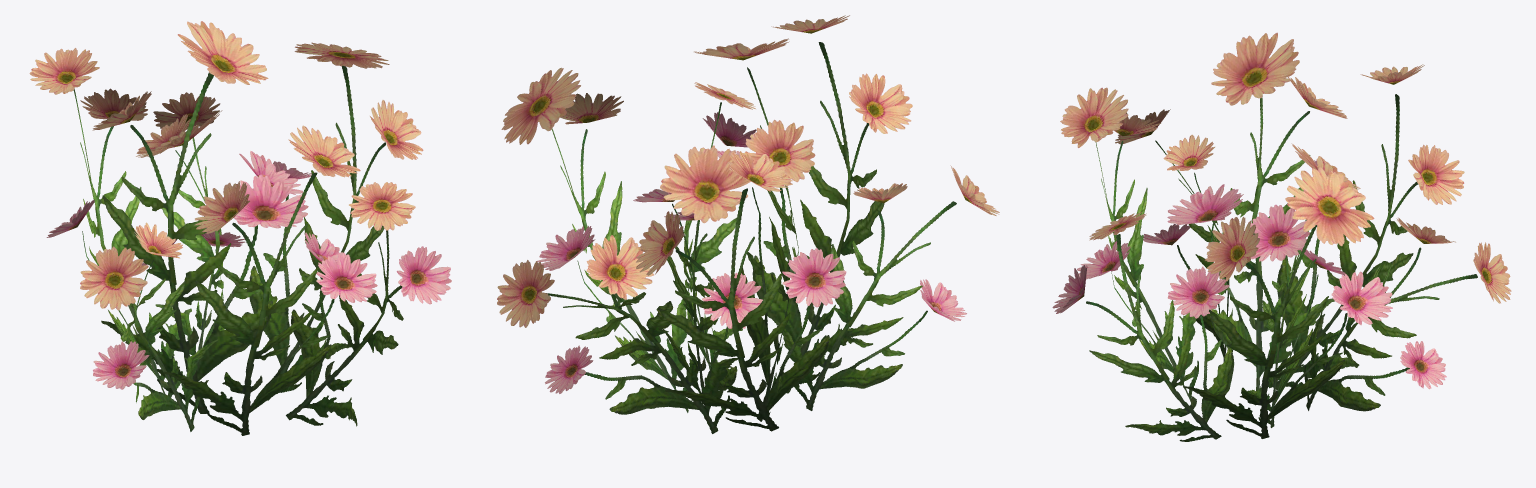
File: map_xuanren_shu_4.fbx
3 renders of one model, left to right at view 1: azimuth 30°, elevation 25°; view 2: azimuth 150°, elevation 25°; view 3: azimuth 270°, elevation 25°, orthographic. The views are drawn at different scales.
Visible parts, largest first — view 1: polySurface779; view 2: polySurface779; view 3: polySurface779.
Part boxes in pixels (x1,y1,x2,y2): polySurface779: (29, 21, 451, 435); polySurface779: (497, 15, 999, 433); polySurface779: (1052, 32, 1511, 441).
Size of the model in its own units: 0.4097 by 0.4025 by 0.434.
